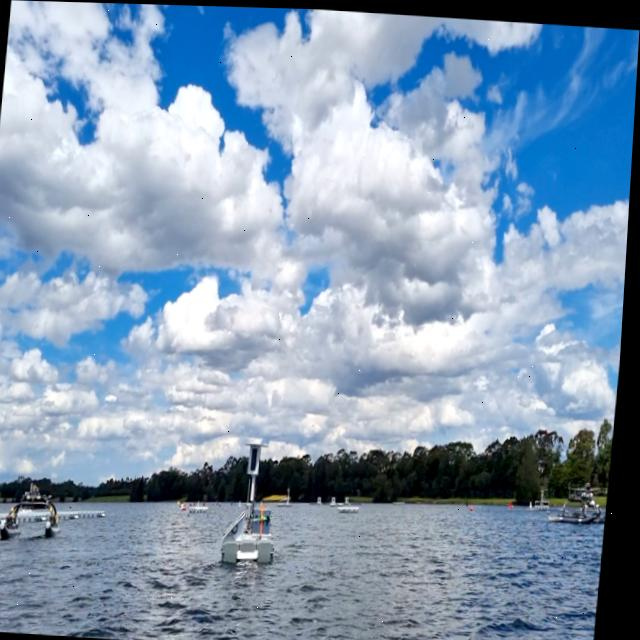led: (254, 443, 265, 471)
